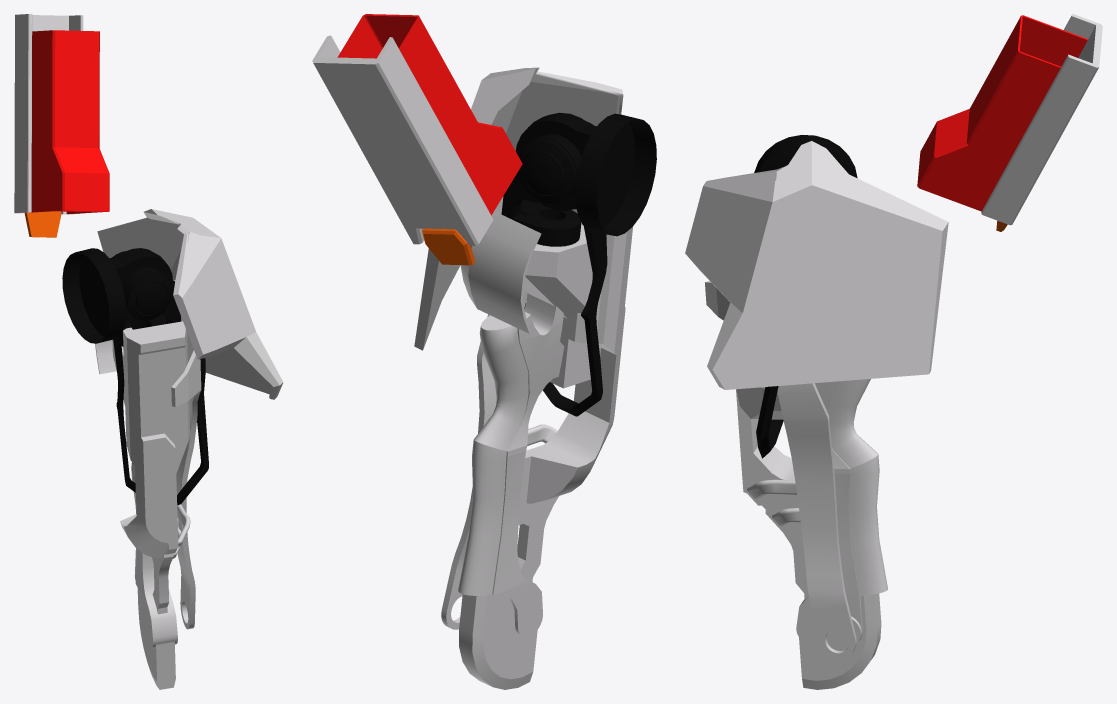
File: leftUpperArm.obj
3 renders of one model, left to right at view 1: azimuth 30°, elevation 25°; view 2: azimuth 150°, elevation 25°; view 3: azimuth 270°, elevation 25°, orthographic. The views are drawn at different scales.
Parts seen in each view (by area): view 1: leftUpperArm1; view 2: leftUpperArm1; view 3: leftUpperArm1.
Boxes of the visible parts, x1,y1,x2,y2 form: leftUpperArm1: [14, 14, 283, 689]; leftUpperArm1: [312, 14, 656, 689]; leftUpperArm1: [685, 14, 1102, 689].
Bounding box in the file's own units: 0.7482 × 2.71 × 1.55.
